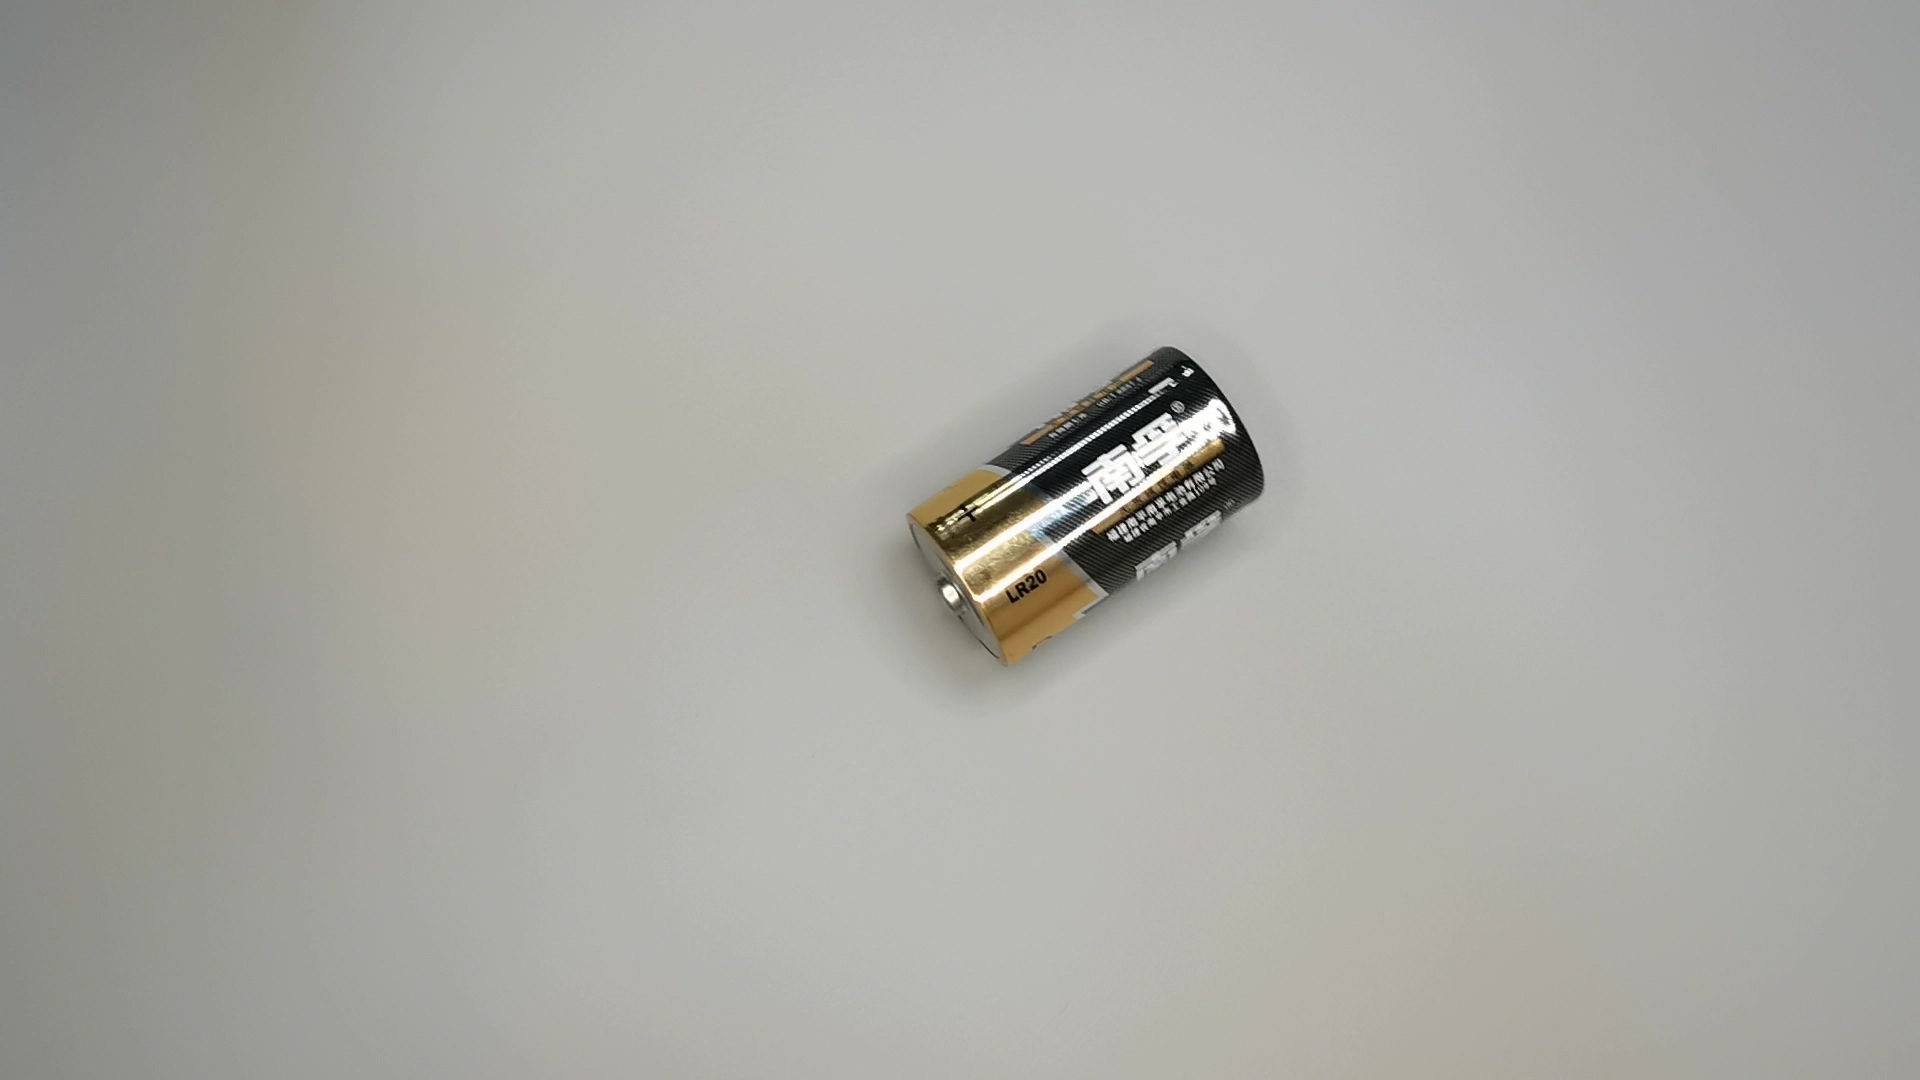battery: (905, 342, 1270, 671)
